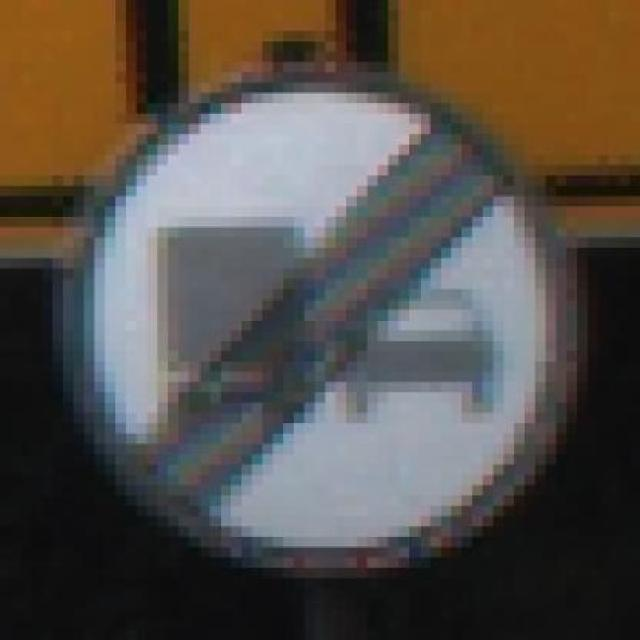Overtaking by trucks is prohibited: (31, 52, 608, 599)
